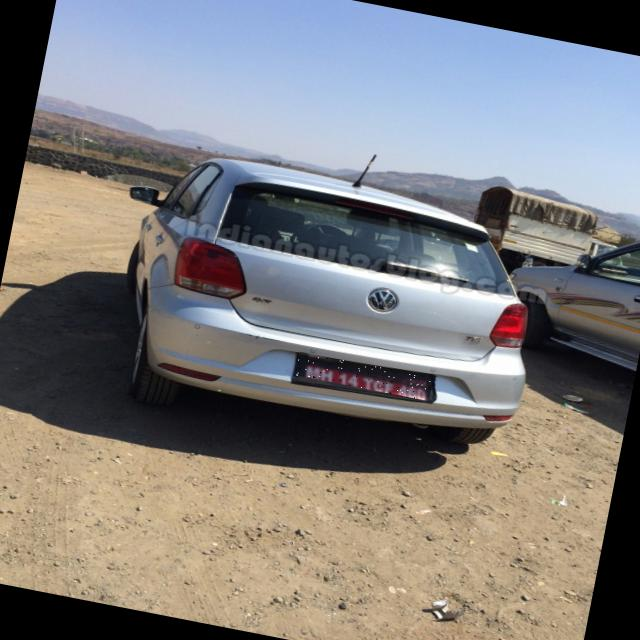Plate: (296, 353, 434, 402)
